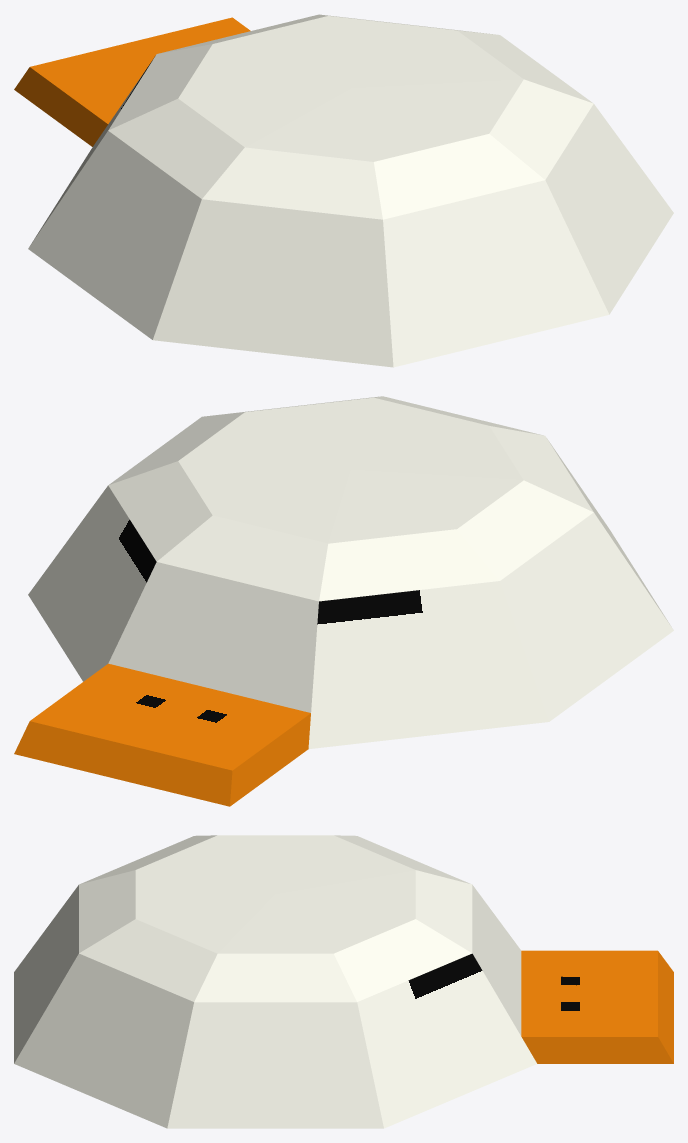
Rendered from cap-hat.gltf.
3 renders of one model, top to bottom at view 1: azimuth 30°, elevation 25°; view 2: azimuth 150°, elevation 25°; view 3: azimuth 270°, elevation 25°, orthographic. The views are drawn at different scales.
Parts seen in each view (by area): view 1: cap; view 2: cap; view 3: cap.
Boxes of the visible parts, left/top/right/bottom form: cap: left=14, top=14, right=673, bottom=367; cap: left=14, top=396, right=673, bottom=806; cap: left=14, top=835, right=673, bottom=1128.
Bounding box in the file's own units: 0.2058 × 0.0539 × 0.2596.
Materials: 1 (1 with a texture image).
